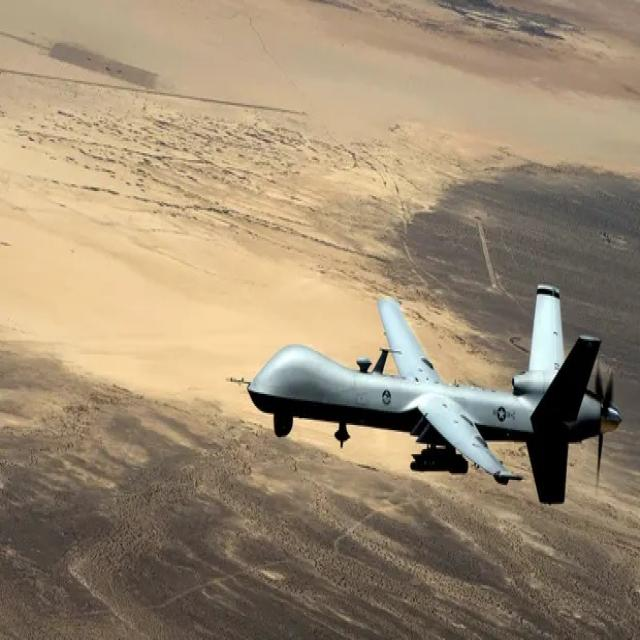MIL_Plane: (225, 282, 624, 508)
